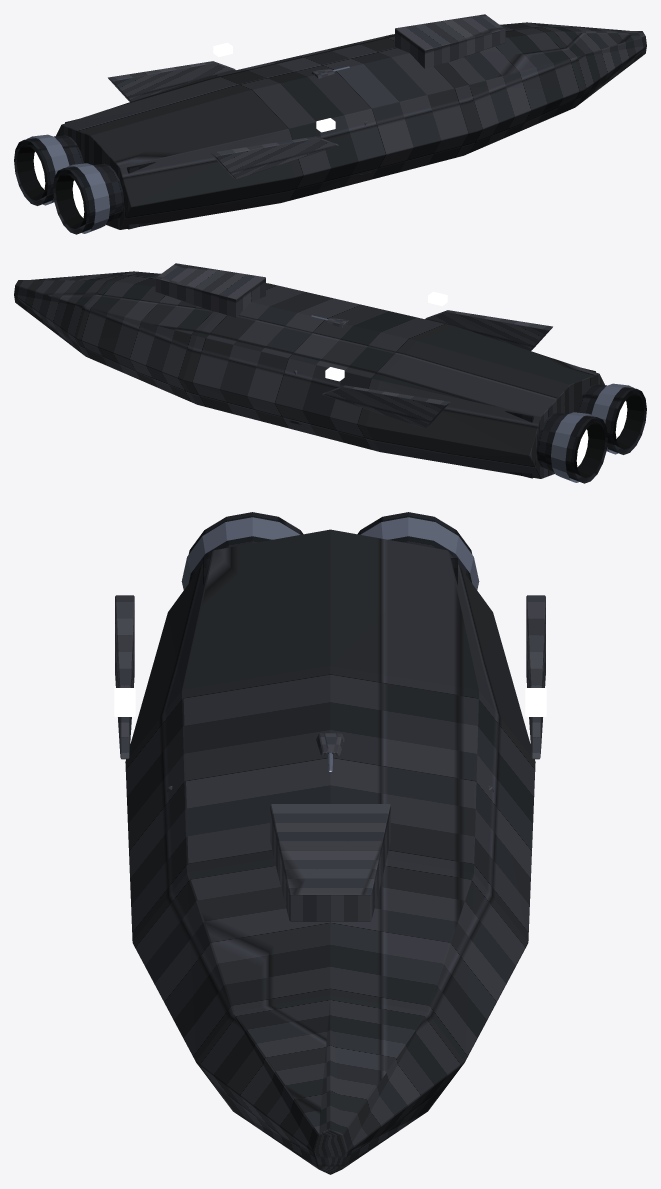
Rendered from frigate.glb.
3 views of the same model, one above another, from view 1: azimuth 30°, elevation 25°; view 2: azimuth 150°, elevation 25°; view 3: azimuth 270°, elevation 25° (orthographic). The views are drawn at different scales.
Visible parts, largest first — view 1: frigate; view 2: frigate; view 3: frigate.
Boxes of the visible parts, left/top/right/bottom form: frigate: left=14, top=14, right=646, bottom=234; frigate: left=14, top=263, right=646, bottom=483; frigate: left=114, top=512, right=546, bottom=1174.
Size of the model in its own units: 24 by 4.2 by 7.59.
Materials: 1 (1 with a texture image).
